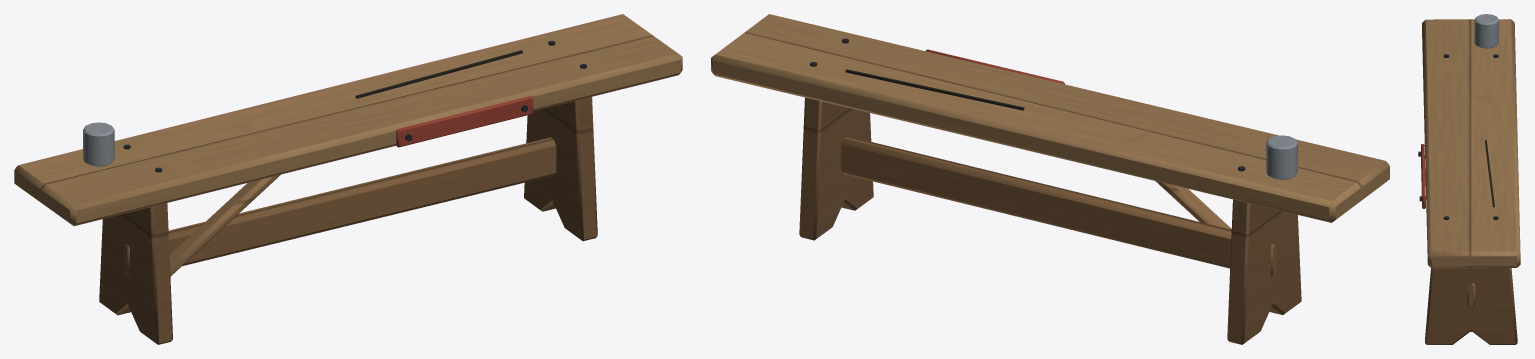
File: bench_plank.glb
The picture shows the model from 3 angles, left to right: view 1: azimuth 30°, elevation 25°; view 2: azimuth 150°, elevation 25°; view 3: azimuth 270°, elevation 25°; orthographic projection. The views are drawn at different scales.
Visible parts, largest first — view 1: bench_plank; view 2: bench_plank; view 3: bench_plank.
Boxes of the visible parts, <box> form: bench_plank: <box>14,14,682,344</box>; bench_plank: <box>711,14,1389,344</box>; bench_plank: <box>1418,14,1520,344</box>.
Size of the model in its own units: 1.8 by 0.54 by 0.3302.
8 materials, 8 textured.
